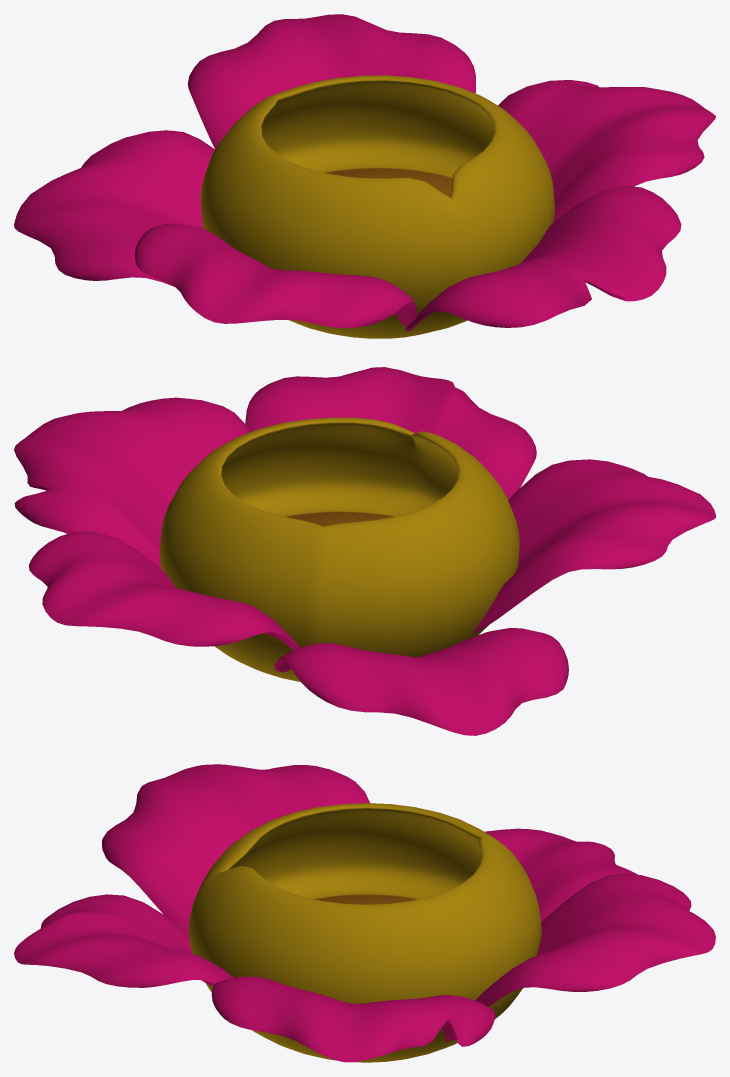
Rendered from Linesteria.fbx.
The picture shows the model from 3 angles, top to bottom: view 1: azimuth 30°, elevation 25°; view 2: azimuth 150°, elevation 25°; view 3: azimuth 270°, elevation 25°; orthographic projection. The views are drawn at different scales.
Parts seen in each view (by area): view 1: Linesteria; view 2: Linesteria; view 3: Linesteria.
Part boxes in pixels (x1,y1,x2,y2): Linesteria: (14,14,715,338); Linesteria: (14,367,715,735); Linesteria: (14,764,715,1062).
Bounding box in the file's own units: 164 × 48.7 × 169.
